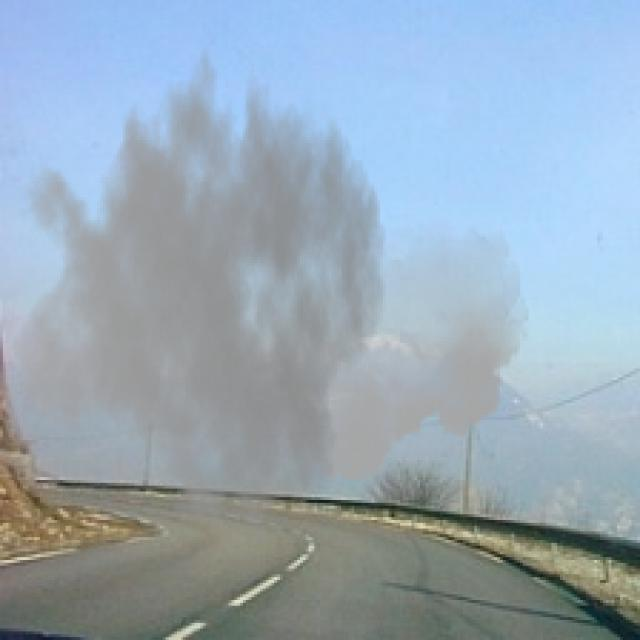smoke: (11, 23, 528, 548)
